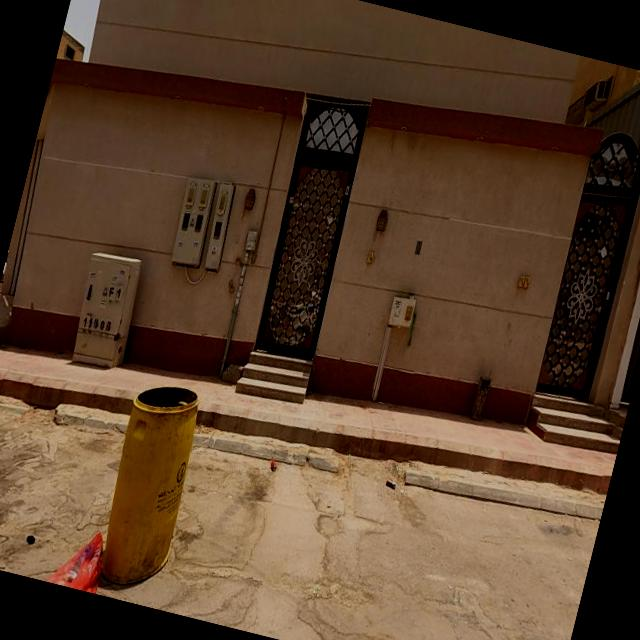debris: (5, 464, 166, 604), (226, 429, 320, 512), (361, 458, 416, 522)
